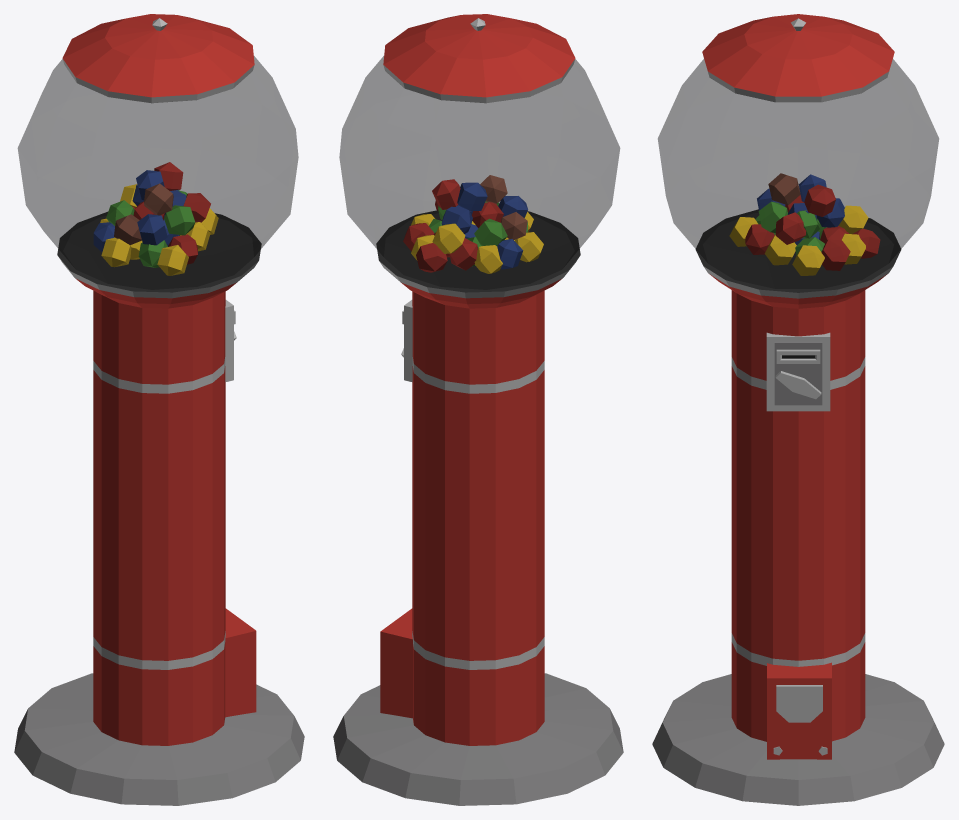
The model's file is SM_candy_machine_2a.gltf.
The picture shows the model from 3 angles, left to right: view 1: azimuth 30°, elevation 25°; view 2: azimuth 150°, elevation 25°; view 3: azimuth 270°, elevation 25°; orthographic projection.
Parts seen in each view (by area): view 1: SM_candy_machine_2a; view 2: SM_candy_machine_2a; view 3: SM_candy_machine_2a.
Boxes of the visible parts, x1,y1,x2,y2 form: SM_candy_machine_2a: (14,14,304,805); SM_candy_machine_2a: (333,14,623,805); SM_candy_machine_2a: (652,14,944,805).
Bounding box in the file's own units: 0.5222 × 1.43 × 0.5222.
Materials: 2 (1 with a texture image).
